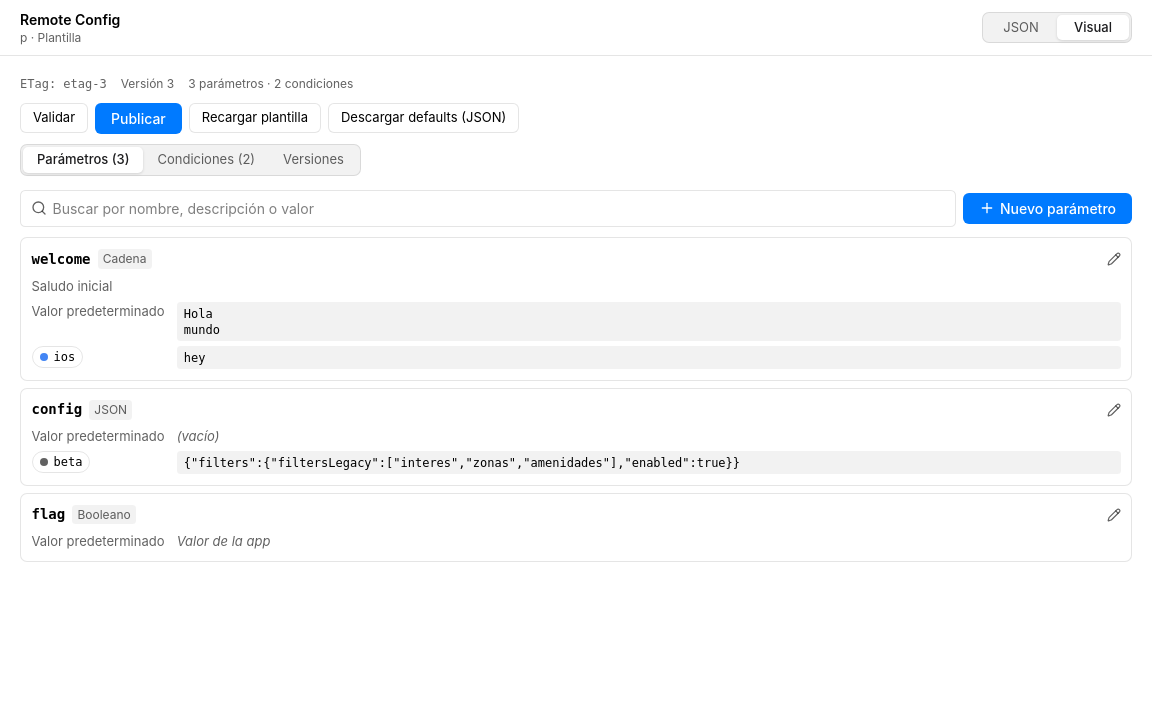
Test: Remote Config visual editor › filters parameters by name, description or value
Expected: the element with test id "rc-table-view" is shown, 20,144 -> 1132,562
Type "amenidades" into the search field with test id "rc-param-search" at (488, 208), box 20,190 -> 956,226
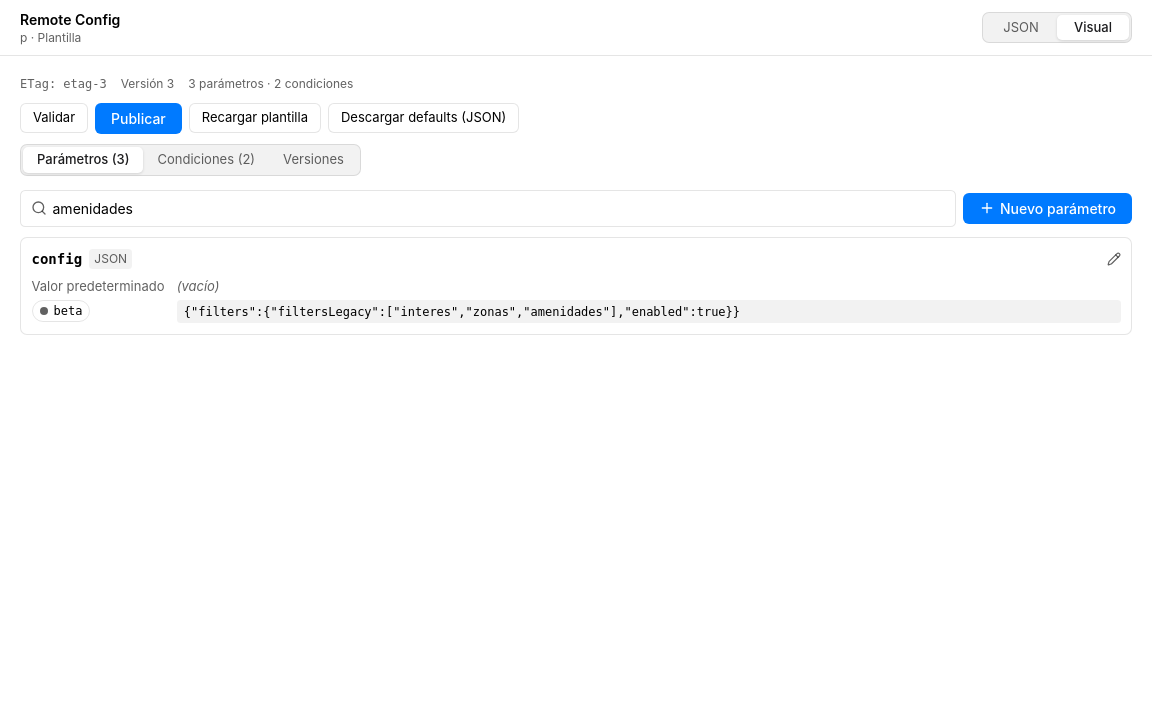
Expected: the list item with test id "rc-param:config" is shown, 20,237 -> 1132,335
Replace the text in the search field with test id "rc-param-search" with "saludo" at (488, 208), box 20,190 -> 956,226
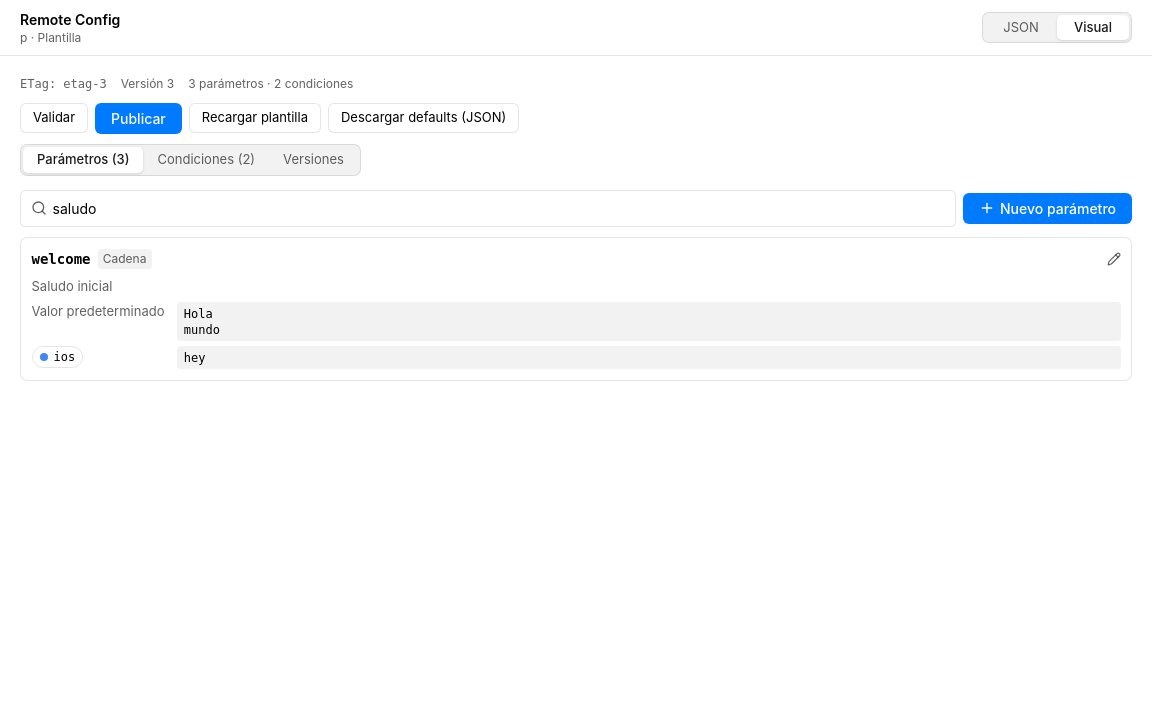
Expected: the list item with test id "rc-param:welcome" is shown, 20,237 -> 1132,381
